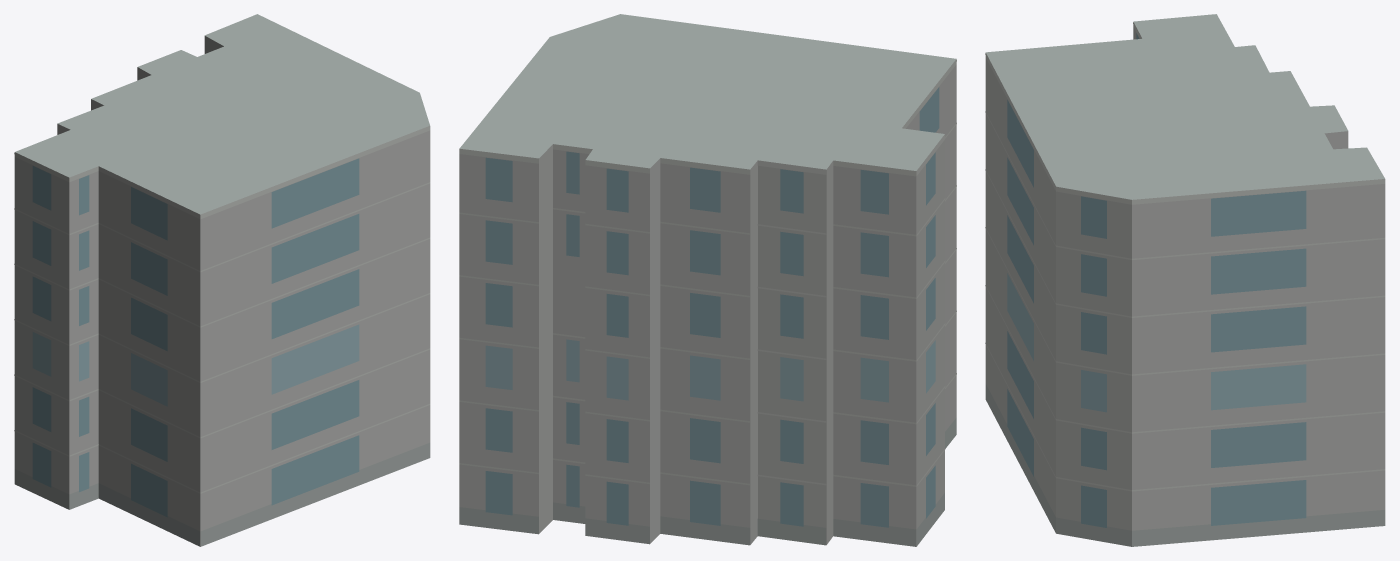
Rendered from survey-upis-32988941.glb.
The picture shows the model from 3 angles, left to right: view 1: azimuth 30°, elevation 25°; view 2: azimuth 150°, elevation 25°; view 3: azimuth 270°, elevation 25°; orthographic projection. The views are drawn at different scales.
Parts seen in each view (by area): view 1: survey-upis-32988941.tmp; view 2: survey-upis-32988941.tmp; view 3: survey-upis-32988941.tmp.
Boxes of the visible parts, bbox=[...] form: survey-upis-32988941.tmp: bbox=[14, 14, 430, 546]; survey-upis-32988941.tmp: bbox=[459, 14, 956, 546]; survey-upis-32988941.tmp: bbox=[985, 14, 1385, 546].
Bounding box in the file's own units: 19.72 × 17.15 × 17.93.
